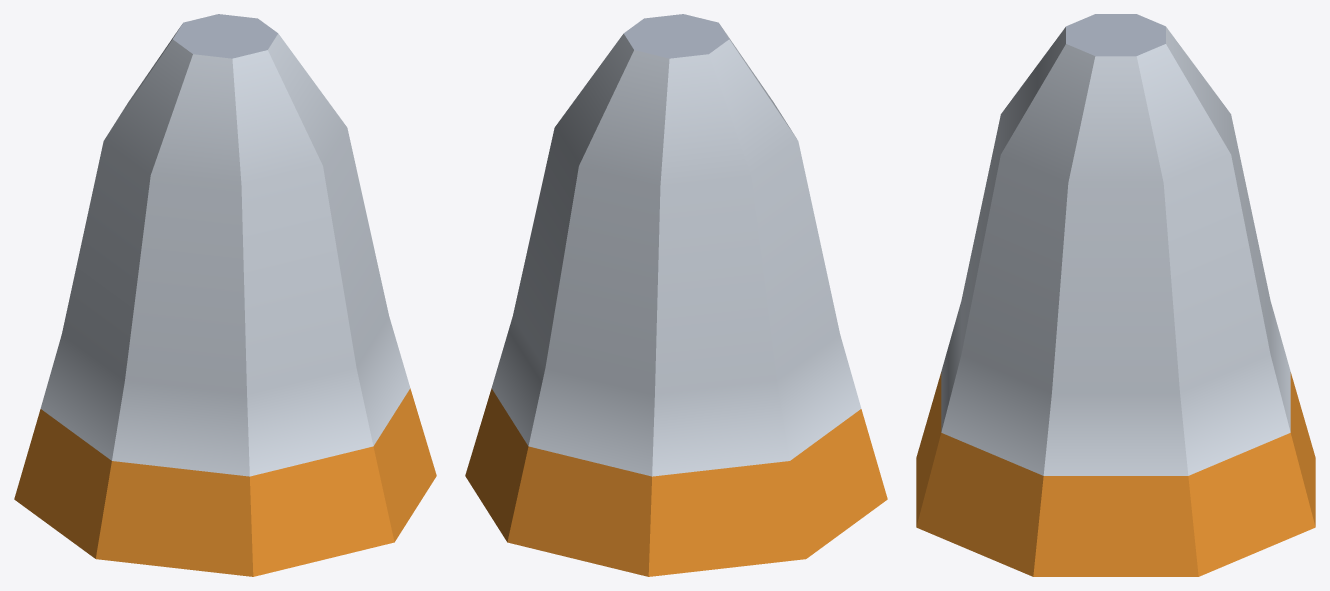
File: RocketTopA2.obj
The picture shows the model from 3 angles, left to right: view 1: azimuth 30°, elevation 25°; view 2: azimuth 150°, elevation 25°; view 3: azimuth 270°, elevation 25°; orthographic projection.
Parts seen in each view (by area): view 1: rocket_topA RocketTopA2; view 2: rocket_topA RocketTopA2; view 3: rocket_topA RocketTopA2.
Part boxes in pixels (left/top/right/bottom): rocket_topA RocketTopA2: left=14, top=14, right=436, bottom=576; rocket_topA RocketTopA2: left=465, top=14, right=887, bottom=576; rocket_topA RocketTopA2: left=916, top=14, right=1315, bottom=576.
Size of the model in its own units: 1 by 1.26 by 1.
